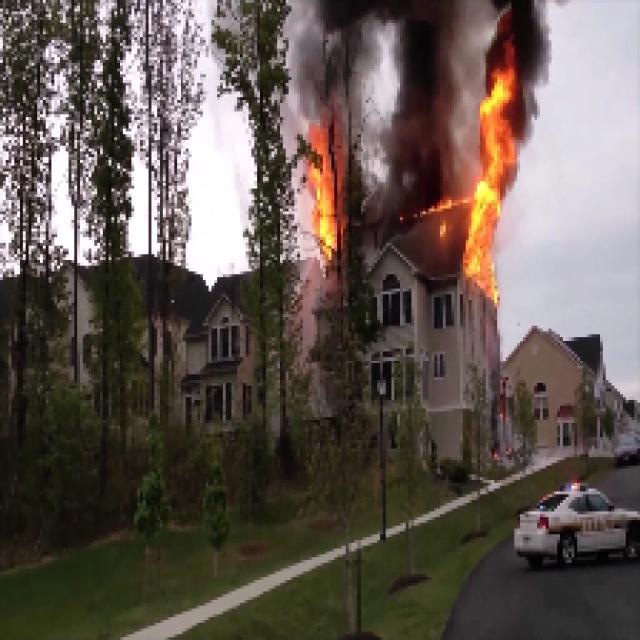fire: (476, 98, 510, 290), (301, 142, 342, 248)
smoke: (388, 3, 449, 192)
